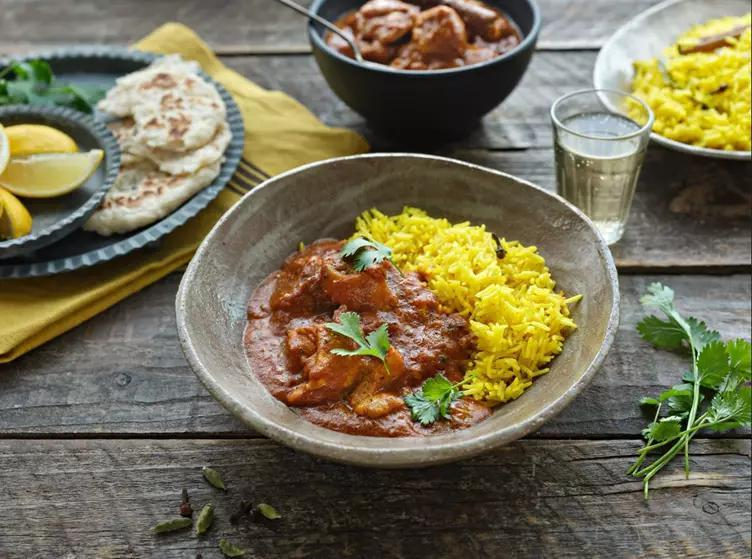chicken: (253, 241, 439, 427), (324, 0, 543, 61)
rice: (429, 192, 583, 420), (629, 5, 752, 150)
